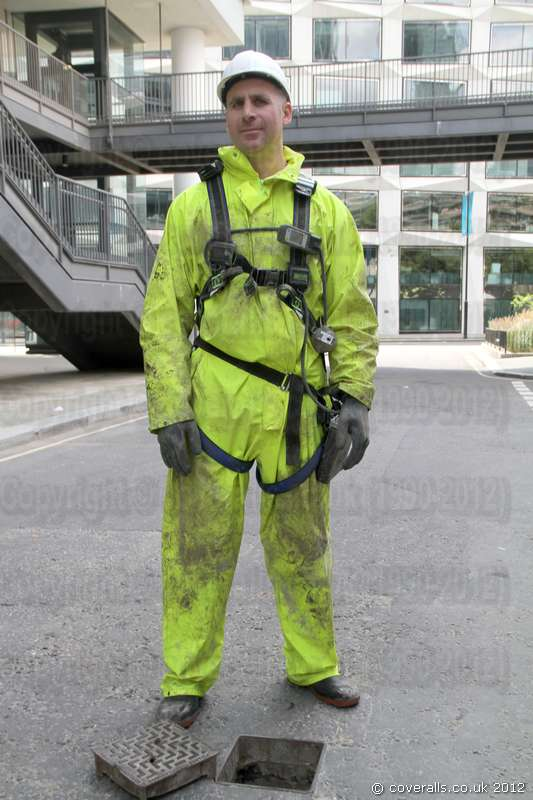Hard Hat: (218, 51, 294, 93)
